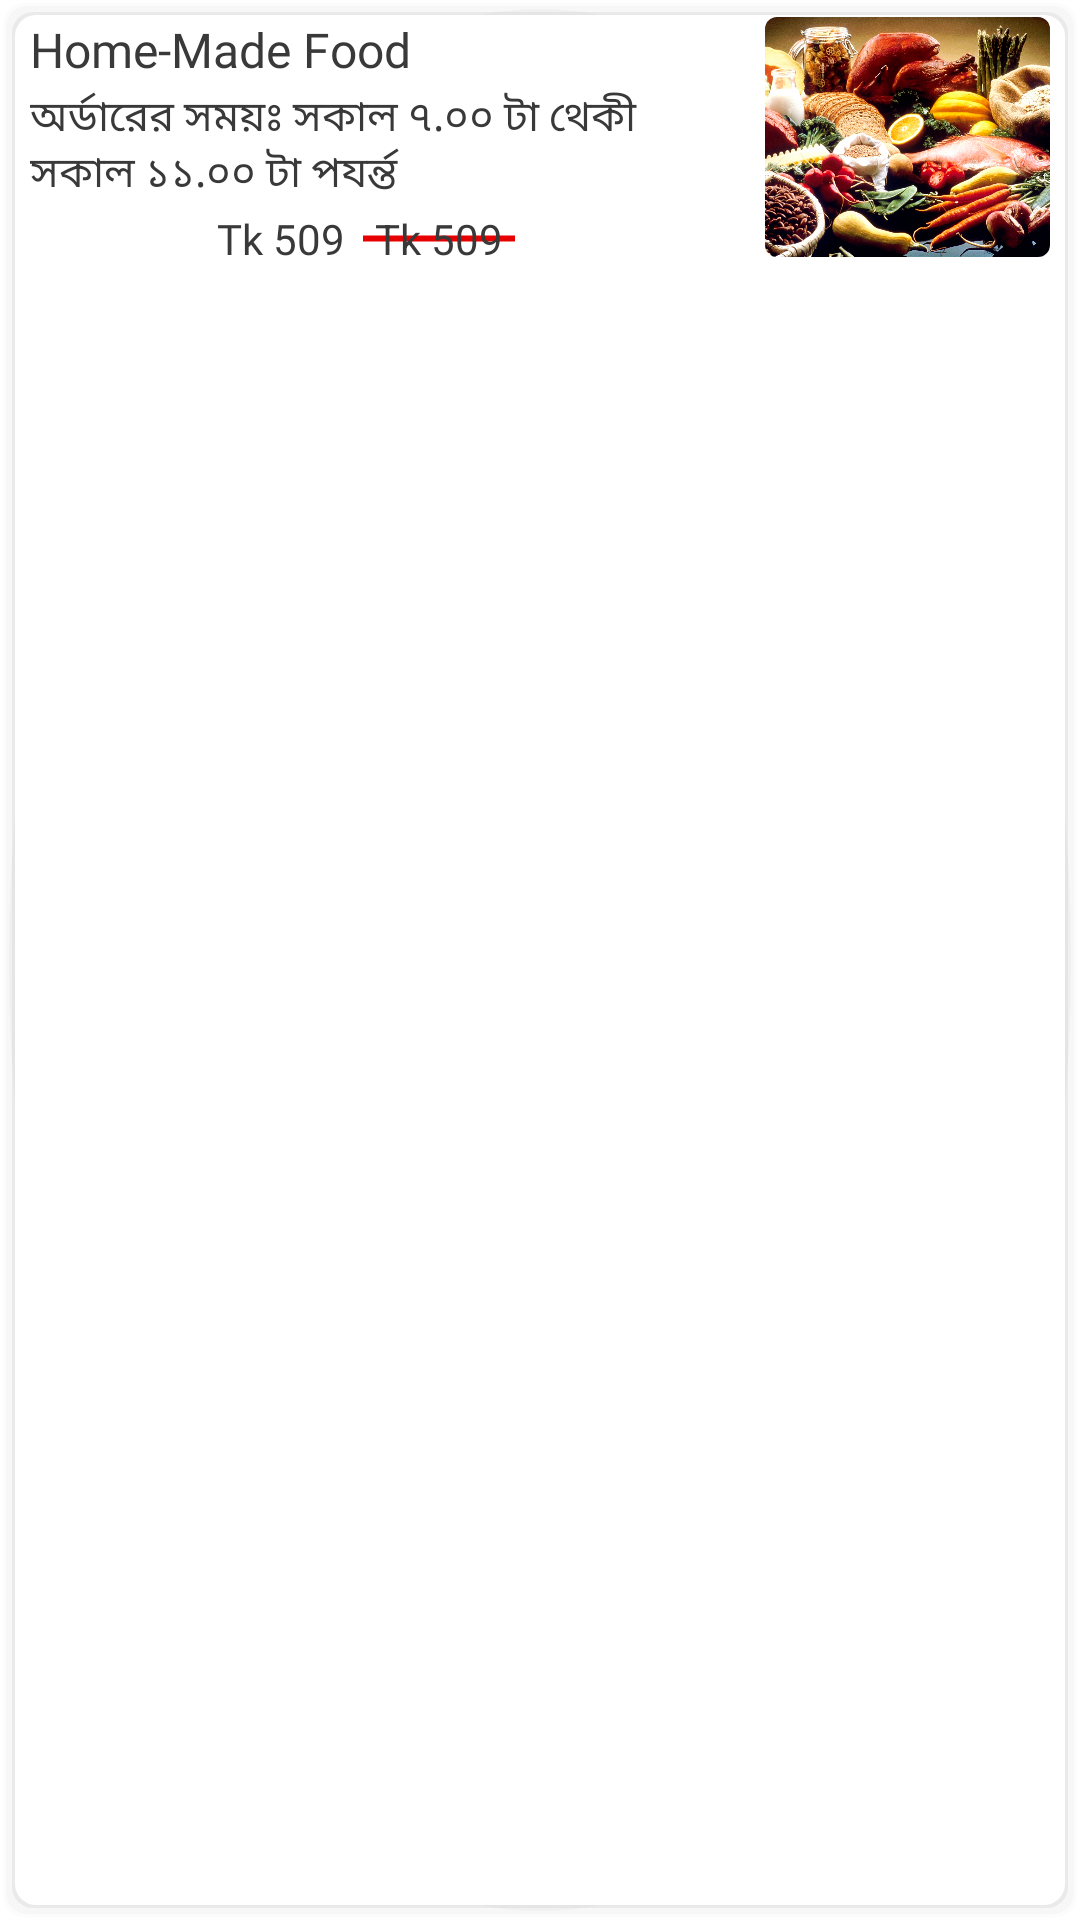

Screen size 1080×1920. Icon name, then its center in pixels as (x,y):
food: (907,137)
